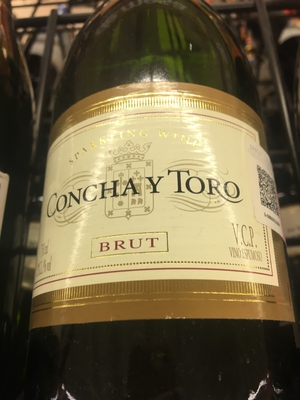brut: (30, 6, 287, 399)
